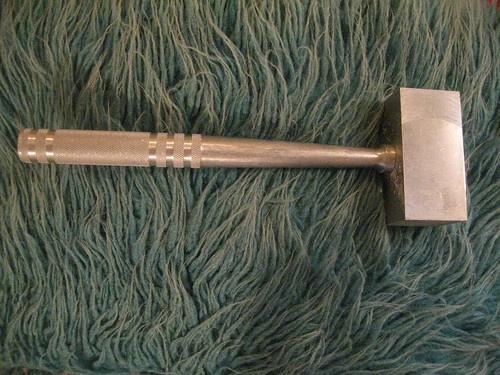hammer: (19, 83, 471, 230)
